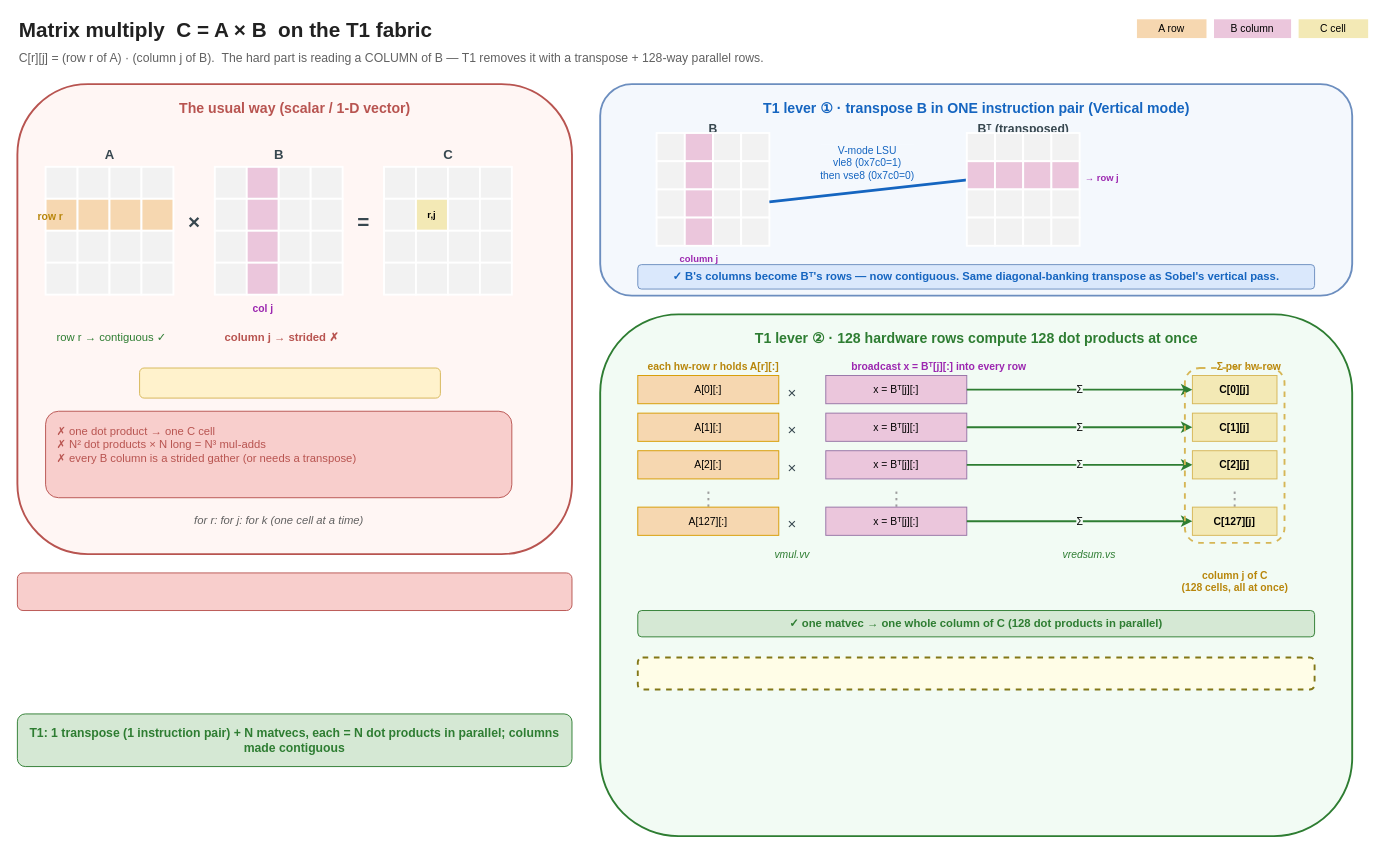
Some shapes in this 1386 by 853 pixel diagram are drawn without their labels. The shapes that lost their labels are listed below. From the top down, each one's box as (x1, y1, x2, y2) in pixels, then its label:
(139, 367, 440, 398): C[r][j] = Σₕ A[r][k] · B[k][j]
(16, 572, 572, 611): Usual: N³ scalar mul-adds + strided column gathers
(636, 656, 1315, 690): ↻ repeat for j = 0 .. 127 → full C matrix (1 transpose + 128 matvecs)
